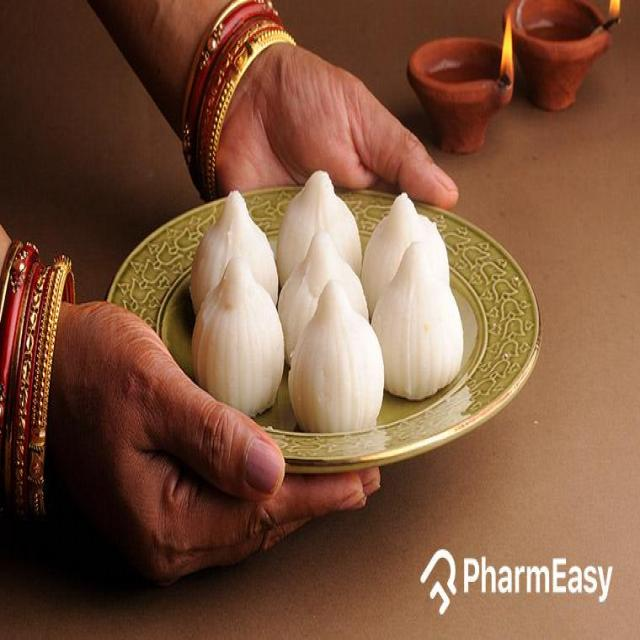modak: (366, 241, 466, 400), (193, 262, 283, 438), (288, 268, 382, 427), (190, 189, 278, 338), (362, 191, 453, 311), (277, 164, 362, 286)
